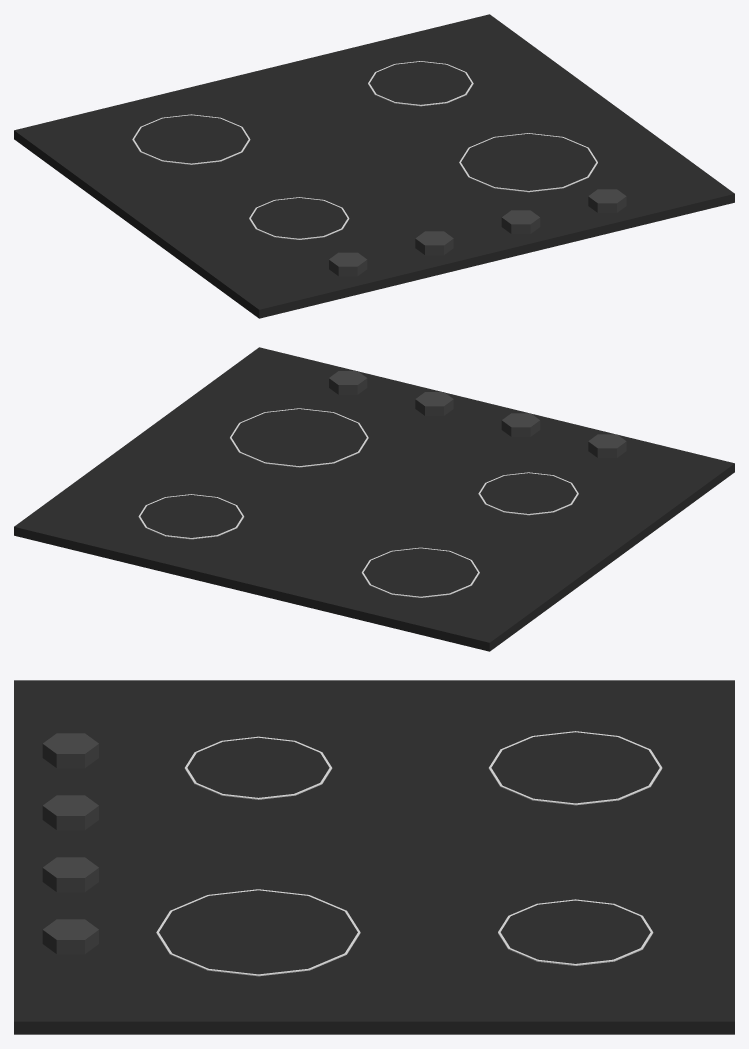
File: Hob2_C1.fbx
3 views of the same model, one above another, from view 1: azimuth 30°, elevation 25°; view 2: azimuth 150°, elevation 25°; view 3: azimuth 270°, elevation 25° (orthographic). The views are drawn at different scales.
Parts seen in each view (by area): view 1: Hob2_C1; view 2: Hob2_C1; view 3: Hob2_C1.
Part boxes in pixels (box(x1,y1,x2,y2)): Hob2_C1: box(14, 14, 734, 318); Hob2_C1: box(14, 347, 734, 651); Hob2_C1: box(14, 680, 734, 1034).
Size of the model in its own units: 56 by 2.1 by 50.
